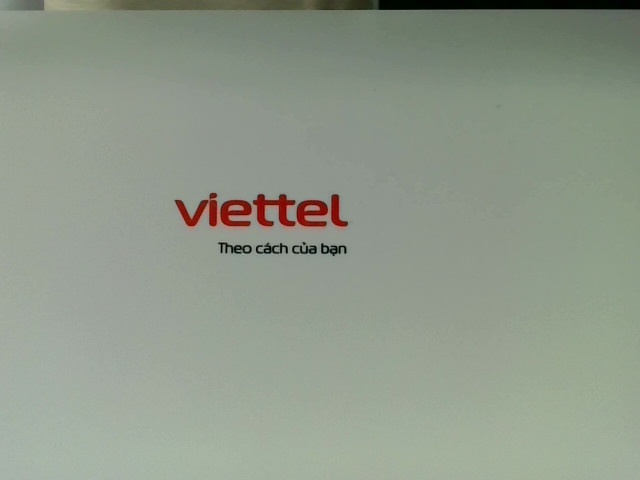AY_Viettel: (172, 191, 367, 255)
